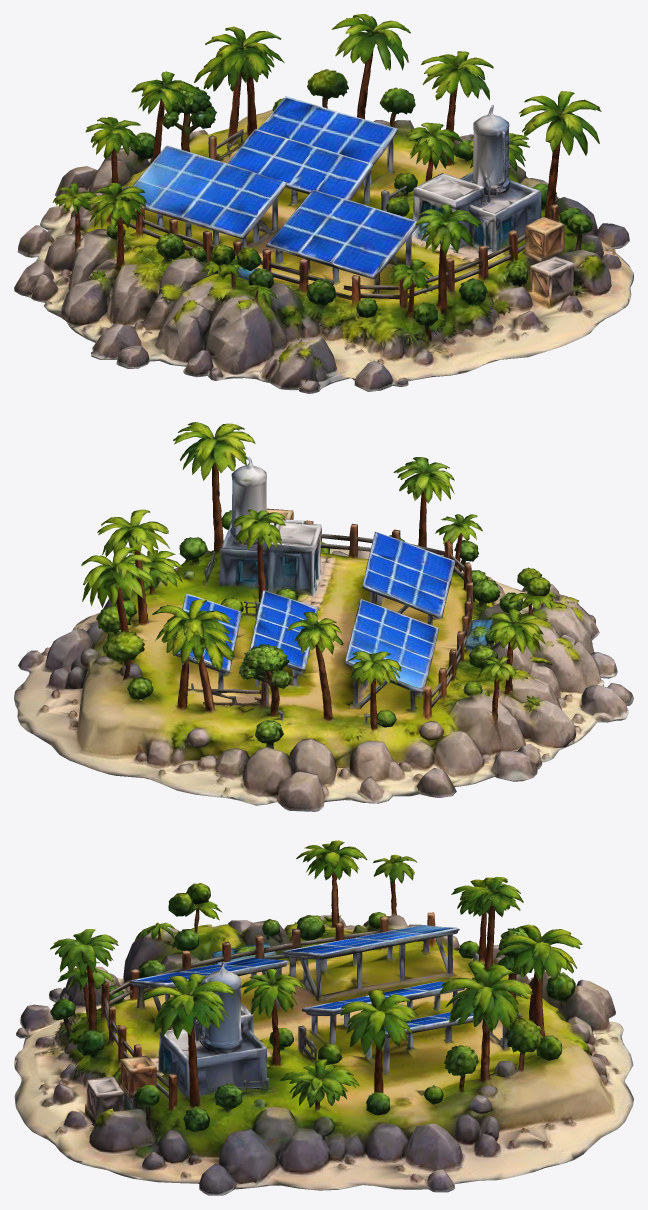
File: energia.glb
3 renders of one model, top to bottom at view 1: azimuth 30°, elevation 25°; view 2: azimuth 150°, elevation 25°; view 3: azimuth 270°, elevation 25°, orthographic. The views are drawn at different scales.
Visible parts, largest first — view 1: tripo_node_5d53c4eb-fab2-4b00-b947-b44fc9cece61; view 2: tripo_node_5d53c4eb-fab2-4b00-b947-b44fc9cece61; view 3: tripo_node_5d53c4eb-fab2-4b00-b947-b44fc9cece61.
Part boxes in pixels (x1=…): tripo_node_5d53c4eb-fab2-4b00-b947-b44fc9cece61: x1=14, y1=14, x2=633, y2=393; tripo_node_5d53c4eb-fab2-4b00-b947-b44fc9cece61: x1=14, y1=422, x2=633, y2=811; tripo_node_5d53c4eb-fab2-4b00-b947-b44fc9cece61: x1=14, y1=840, x2=633, y2=1195.
Bounding box in the file's own units: 0.9794 × 0.3036 × 0.9715.
Materials: 1 (1 with a texture image).
